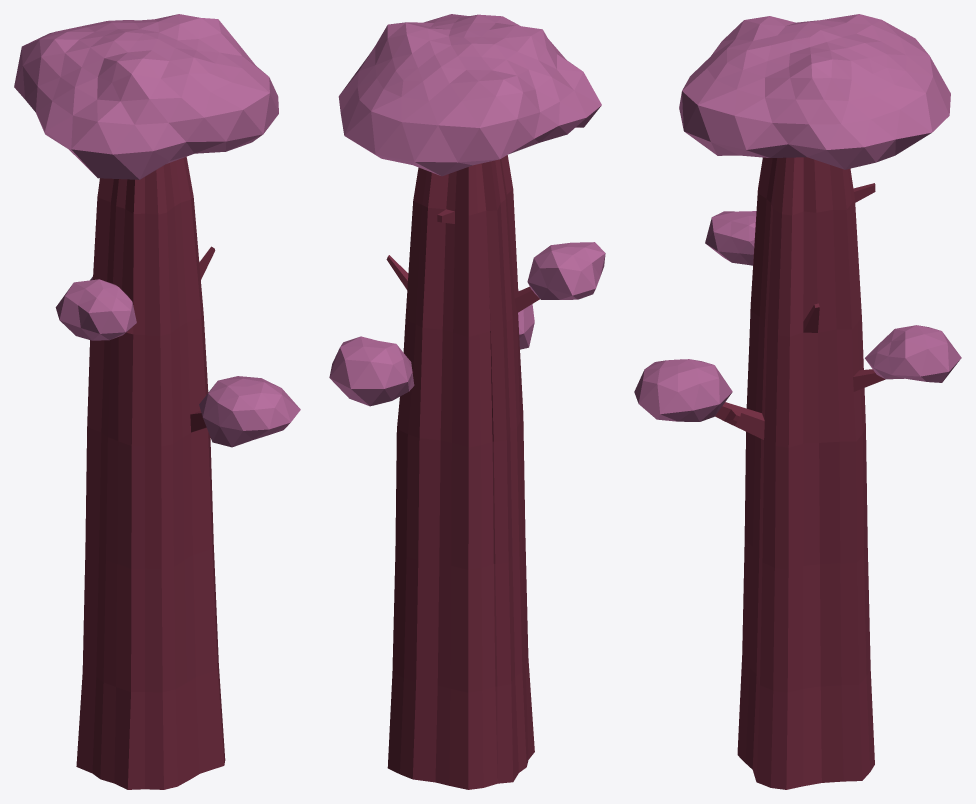
The model's file is Mo_ForestTree10.fbx.
The picture shows the model from 3 angles, left to right: view 1: azimuth 30°, elevation 25°; view 2: azimuth 150°, elevation 25°; view 3: azimuth 270°, elevation 25°; orthographic projection.
Visible parts, largest first — view 1: Icosphere.002; view 2: Icosphere.002; view 3: Icosphere.002.
Boxes of the visible parts, box(x1,y1,x2,y2) form: Icosphere.002: box(14, 14, 300, 789); Icosphere.002: box(329, 14, 605, 789); Icosphere.002: box(634, 14, 961, 789).
Size of the model in its own units: 170 by 547 by 225.
